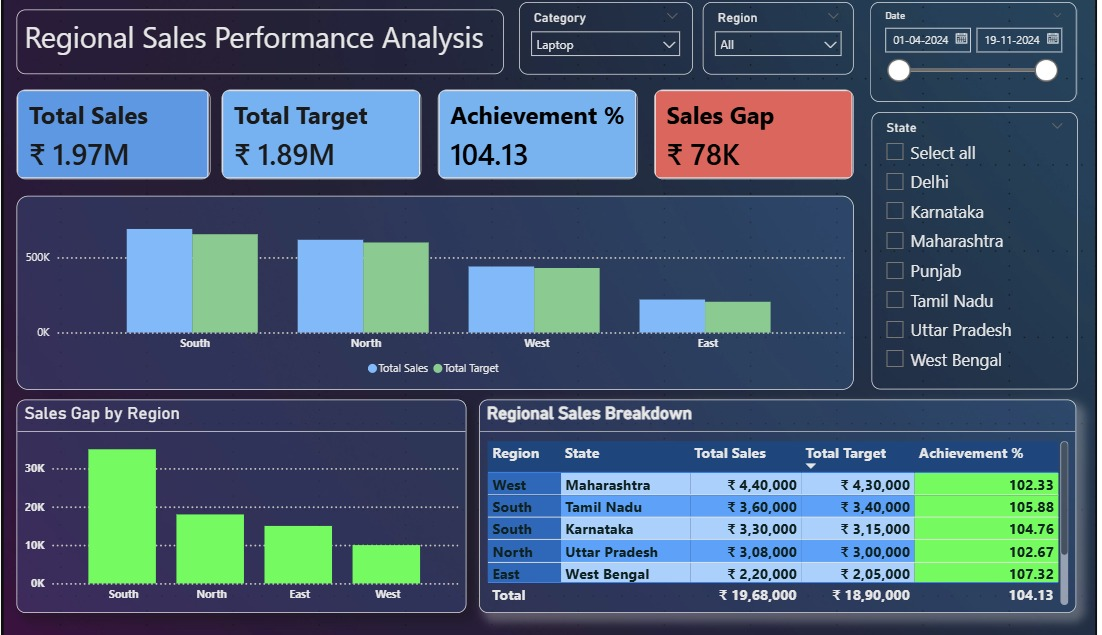

What the dashboard file says about the page in this screenshot:
{"tool":"powerbi","page":{"name":"Page 2","canvas":[1280,720],"ordinal":1},"visuals":[{"type":"textbox","box":[47.3,19.5,542.6,72.3],"z":0},{"type":"clusteredColumnChart","title":"Sales vs Target by Region","fields":{"Category":["asus_sales_data.Region"],"Y":["asus_sales_data.Total Sales","asus_sales_data.Total Target"]},"box":[47.3,226.8,932.2,215.7],"z":1000},{"type":"clusteredColumnChart","fields":{"Category":["asus_sales_data.Region"],"Y":["asus_sales_data.Sales Gap"]},"box":[47.3,453.6,500.9,237.9],"z":2000},{"type":"tableEx","title":"Regional Sales Breakdown","fields":{"Values":["asus_sales_data.Region","asus_sales_data.State","asus_sales_data.Total Sales","asus_sales_data.Total Target","asus_sales_data.Achievement %"]},"box":[562.1,453.6,665,237.9],"z":3000},{"type":"slicer","fields":{"Values":["asus_sales_data.Region"]},"box":[811.1,11.1,168.3,80.7],"z":4000},{"type":"slicer","fields":{"Values":["asus_sales_data.State"]},"box":[999,133.6,229.6,308.9],"z":5000},{"type":"slicer","fields":{"Values":["asus_sales_data.Category"]},"box":[606.6,11.1,193.4,80.7],"z":7000},{"type":"cardVisual","title":"Total Sales","fields":{"Data":["asus_sales_data.Total Sales"]},"box":[47.3,108.5,215.7,100.2],"z":8000},{"type":"cardVisual","fields":{"Data":["asus_sales_data.Total Target"]},"box":[275.5,108.5,222.6,100.2],"z":9000},{"type":"cardVisual","fields":{"Data":["asus_sales_data.Achievement %"]},"box":[516.2,108.5,222.6,100.2],"z":10000},{"type":"cardVisual","fields":{"Data":["asus_sales_data.Sales Gap"]},"box":[756.9,108.5,222.6,100.2],"z":11000},{"type":"slicer","fields":{"Values":["asus_sales_data.Date"]},"box":[997.6,11.1,229.6,111.3],"z":12000}]}

Visuals, with their boxes in screenshot pixels (x1, y1, x2, y2), scaled from the page's 1280x720 canvas onto the 1102x635 screenshot:
textbox: BBox(41, 17, 508, 81)
"Sales vs Target by Region" clusteredColumnChart: BBox(41, 200, 843, 390)
clusteredColumnChart - asus_sales_data.Region x asus_sales_data.Sales Gap: BBox(41, 400, 472, 610)
"Regional Sales Breakdown" tableEx: BBox(484, 400, 1056, 610)
slicer - asus_sales_data.Region: BBox(698, 10, 843, 81)
slicer - asus_sales_data.State: BBox(860, 118, 1058, 390)
slicer - asus_sales_data.Category: BBox(522, 10, 689, 81)
"Total Sales" cardVisual: BBox(41, 96, 226, 184)
cardVisual - asus_sales_data.Total Target: BBox(237, 96, 429, 184)
cardVisual - asus_sales_data.Achievement %: BBox(444, 96, 636, 184)
cardVisual - asus_sales_data.Sales Gap: BBox(652, 96, 843, 184)
slicer - asus_sales_data.Date: BBox(859, 10, 1057, 108)
